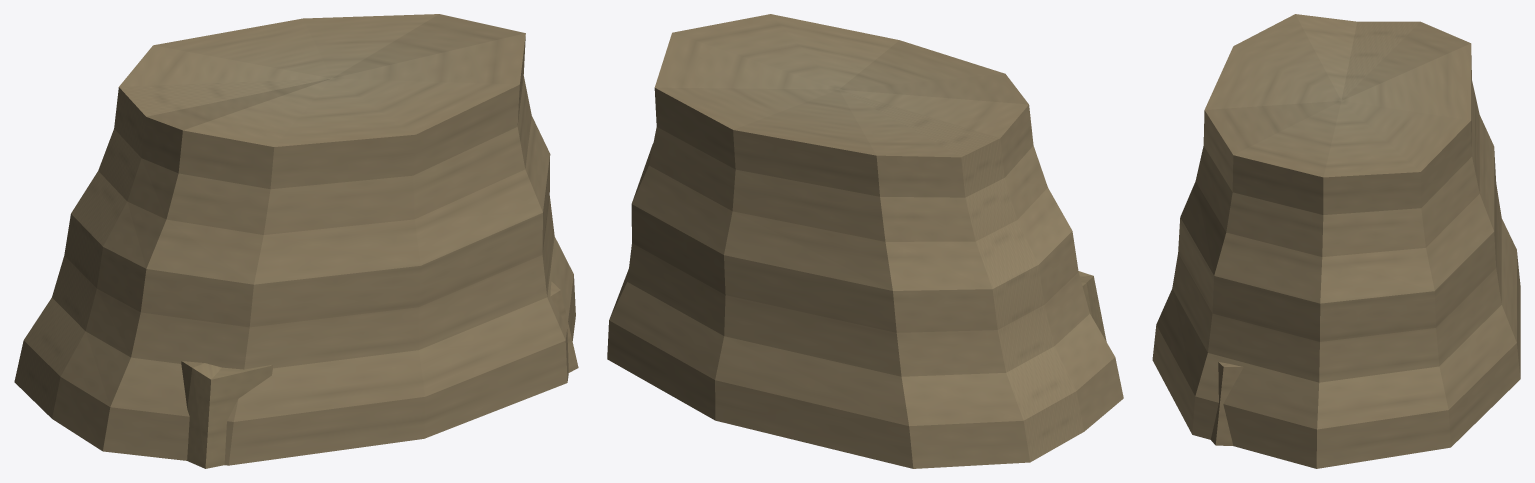
File: cliff-sandstone-lod0.glb
3 views of the same model, side by side, from view 1: azimuth 30°, elevation 25°; view 2: azimuth 150°, elevation 25°; view 3: azimuth 270°, elevation 25° (orthographic). The views are drawn at different scales.
Bounding box in the file's own units: 0.53 × 0.2968 × 0.3645.
1 material, 1 textured.
